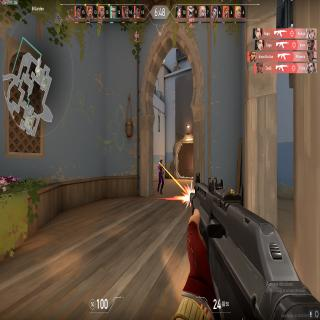ENEMY-BODY: (158, 157, 164, 196)
ENEMY-HEAD: (160, 157, 162, 164)
